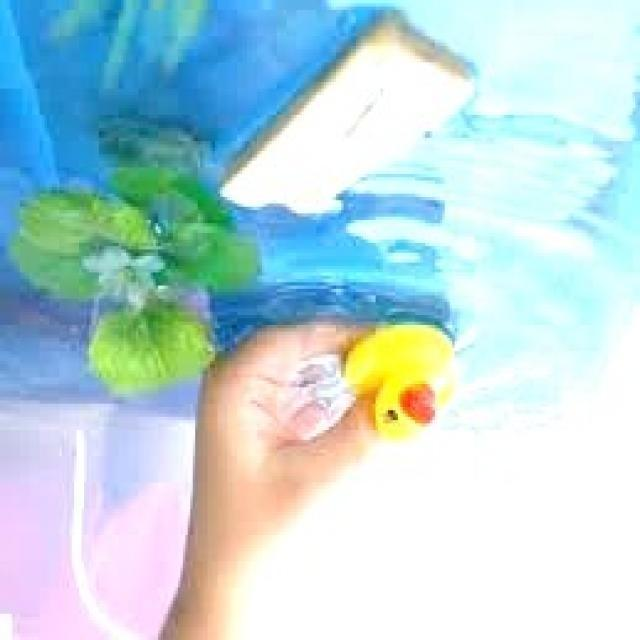rubber-duck: (344, 324, 452, 435)
